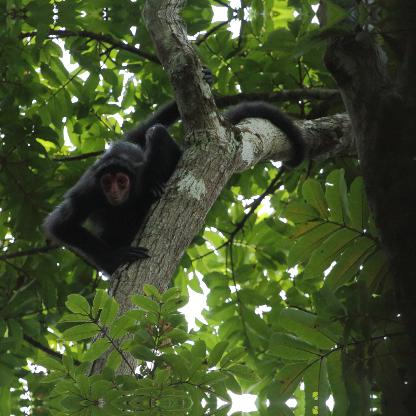Monkey: (40, 64, 308, 272)
